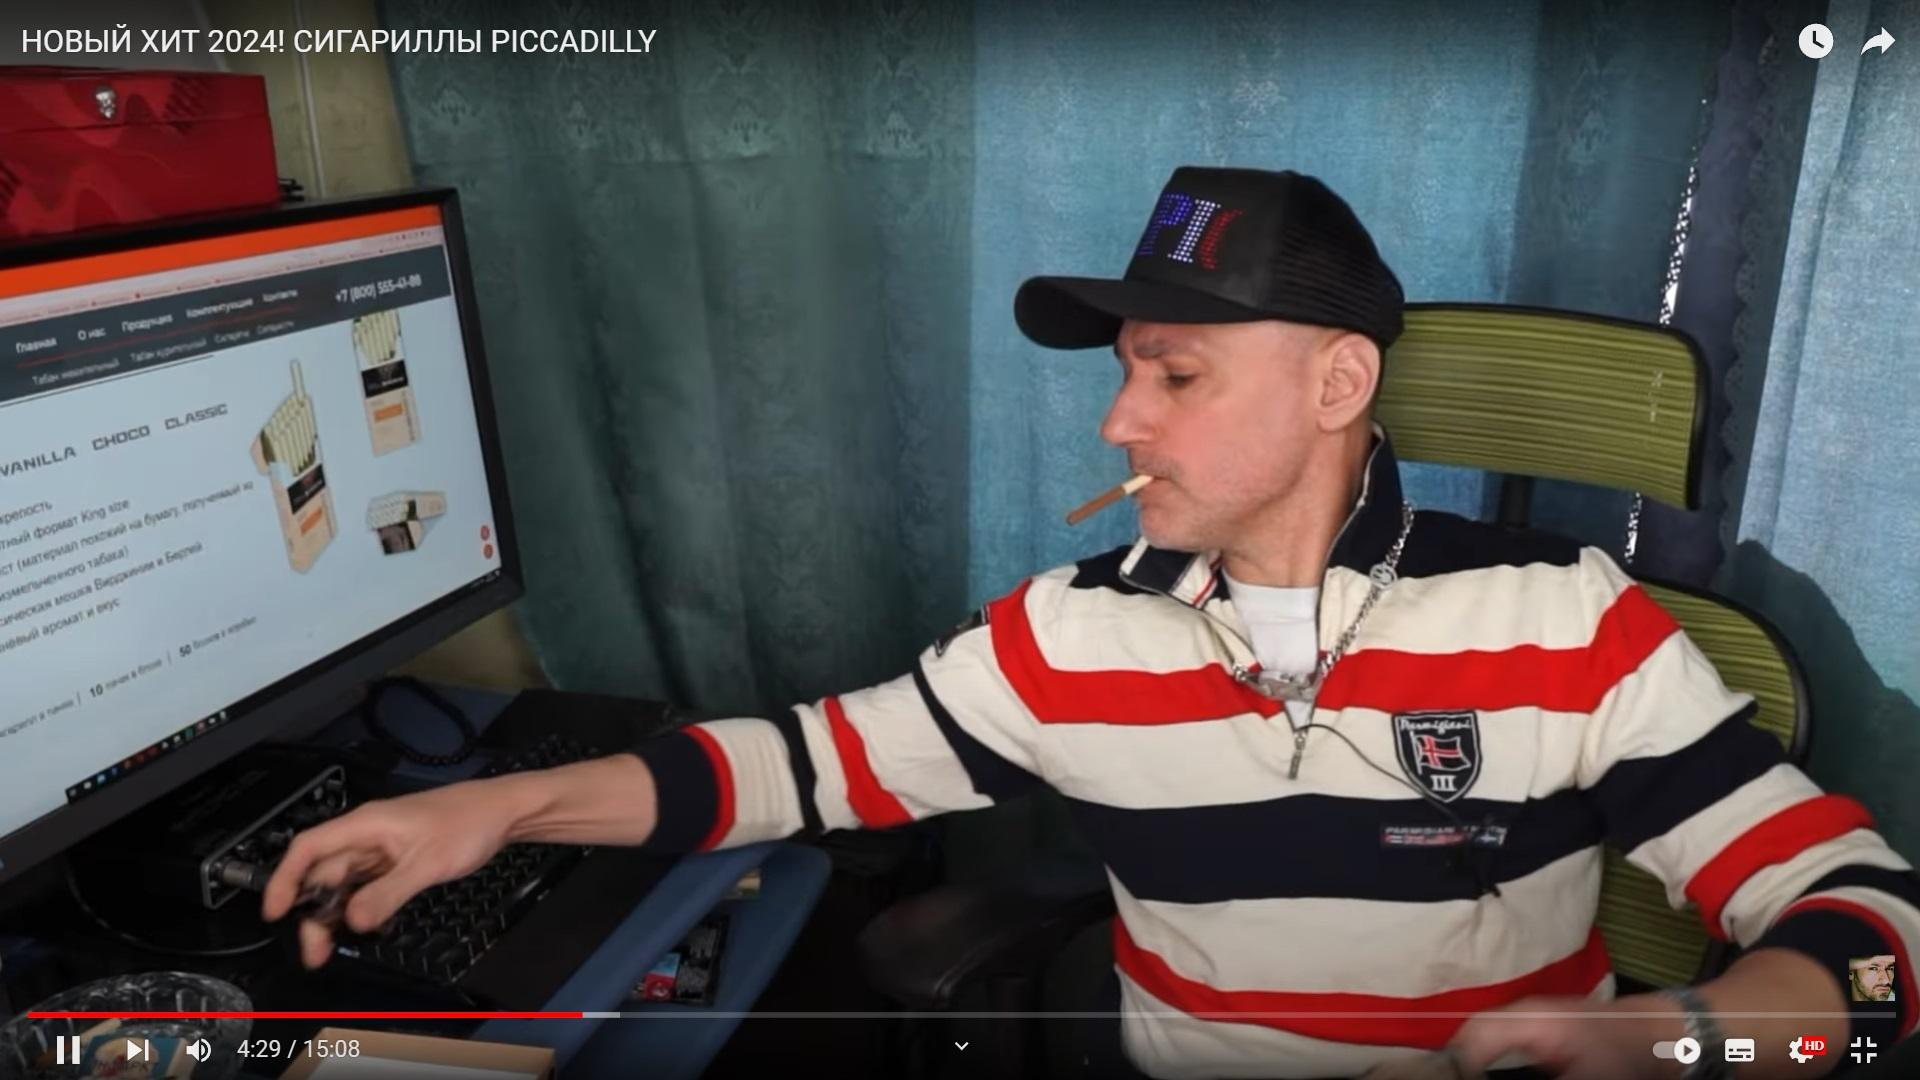cigarette: (1067, 473, 1154, 525)
